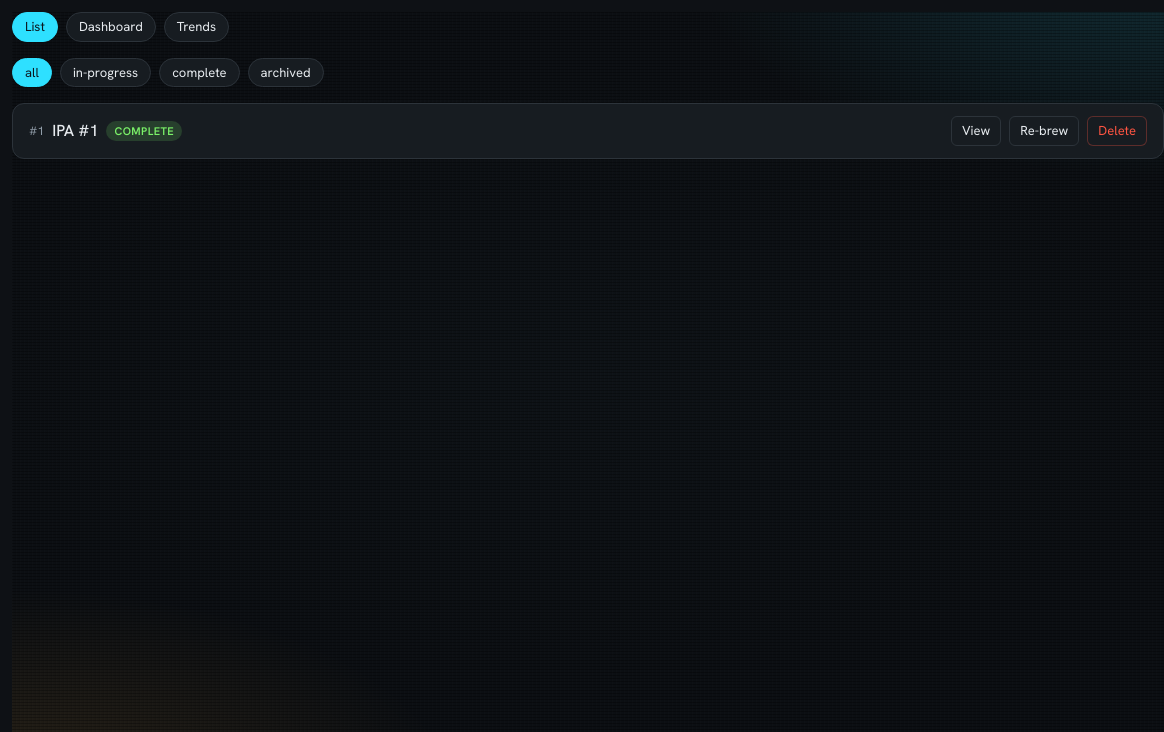
LogbookView tab bar › makes the previously-orphaned Trends view reachable
This screenshot has width=1164, height=732.
What coordinates should you click on to do the following:
click the button "Trends"
I would click on:
 (196, 27)
Its box is [164,12,229,42].
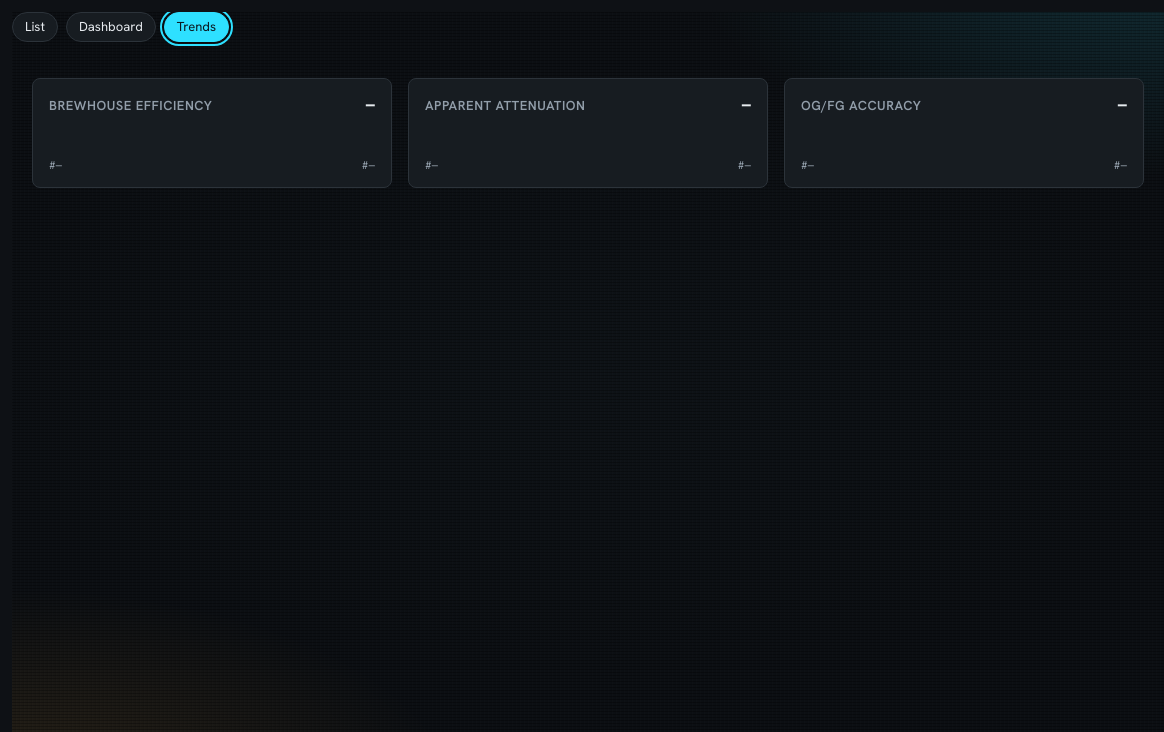
Result: the text "Brewhouse efficiency" is shown at [49,96,212,115]
Result: the text "Apparent attenuation" is shown at [425,96,586,115]
